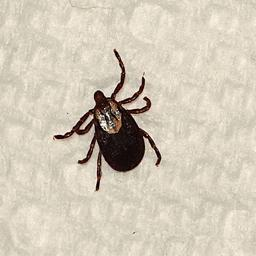Dermacentor variabilis: (51, 53, 167, 193)
